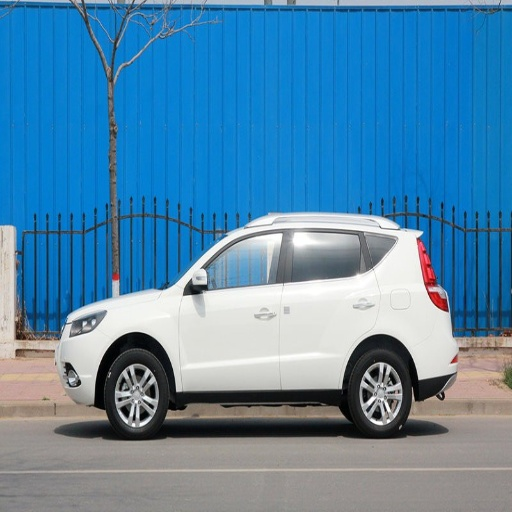back_left_door: (281, 226, 379, 387)
front_left_door: (179, 227, 287, 387)
